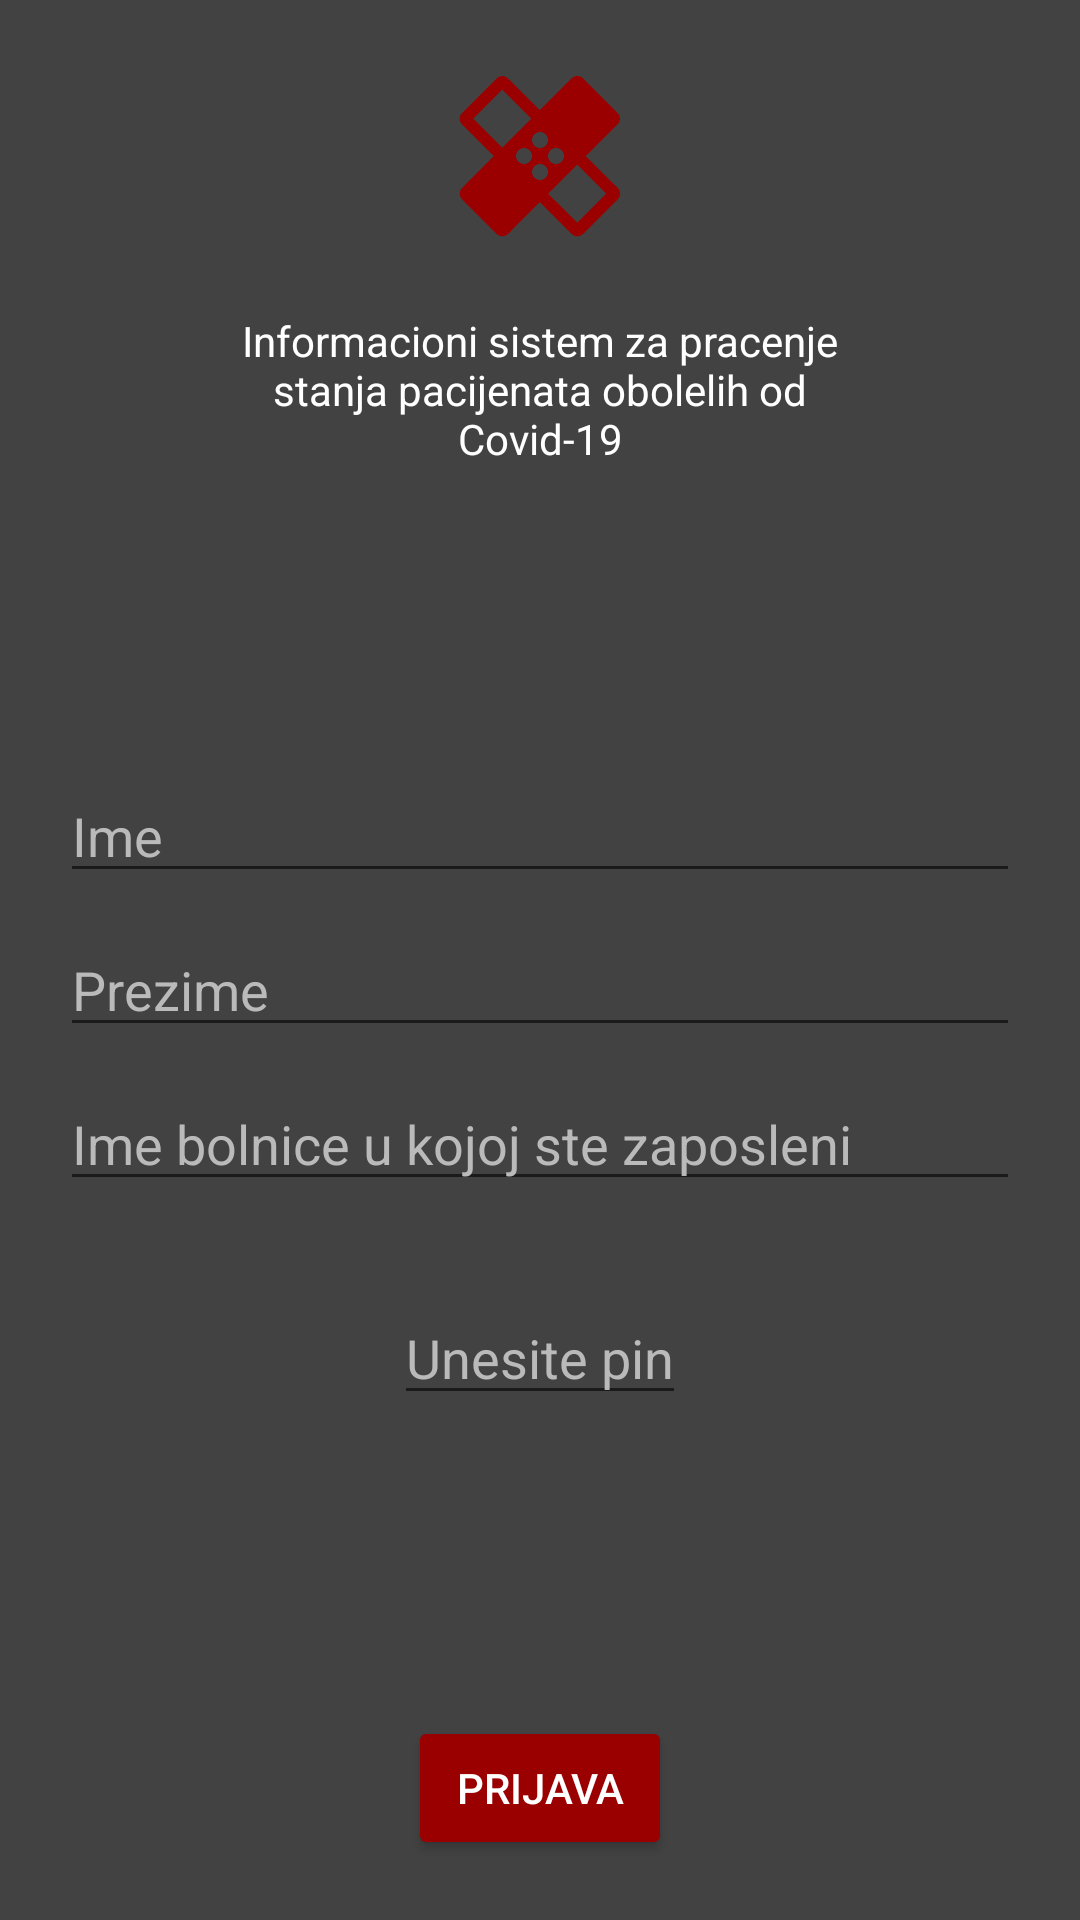

Icon click points for this 1080px x 1920px phone screenshot, format (x=x, y=y):
healing: (x=540, y=156)
